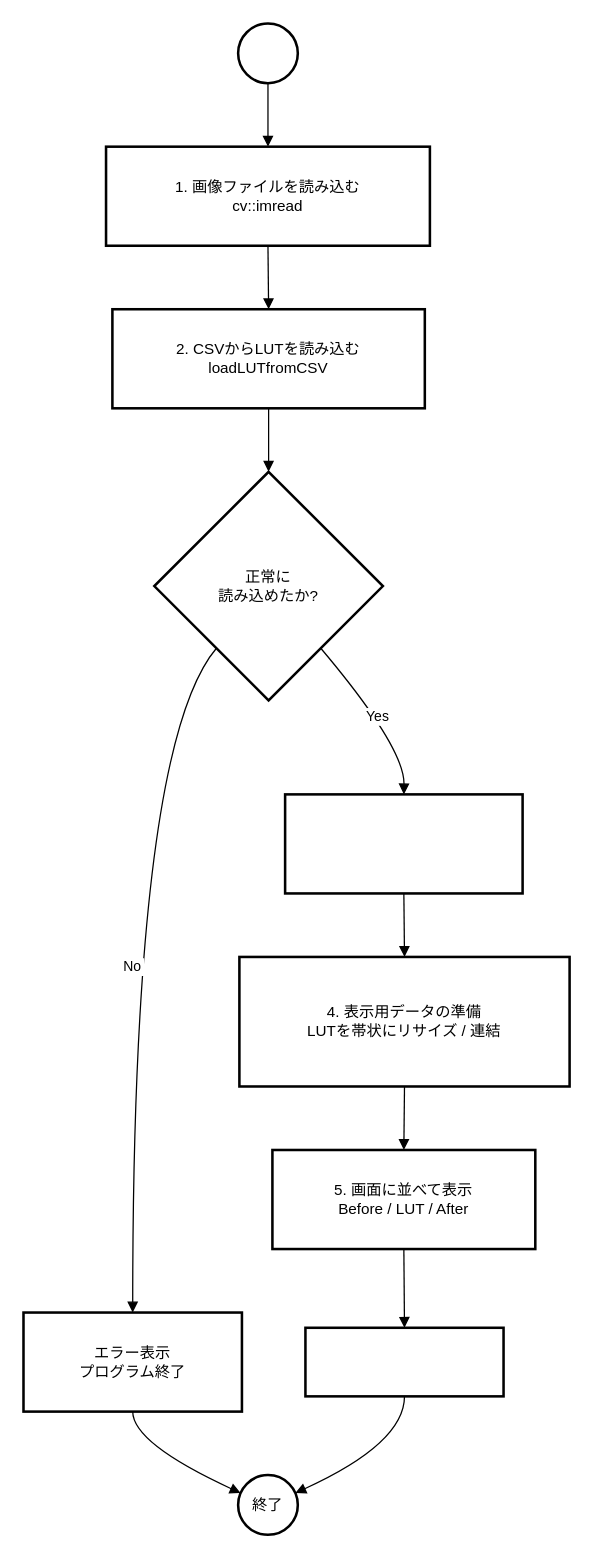
This 592x1557 diagram has some shape labels left out. The box of each missing label's shape, as (x1, y1, x2, y2) in pixels:
3. LUTを適用する cv::LUT: (283, 792, 523, 894)
キー入力待機: (304, 1326, 504, 1397)
開始: (236, 22, 298, 84)
